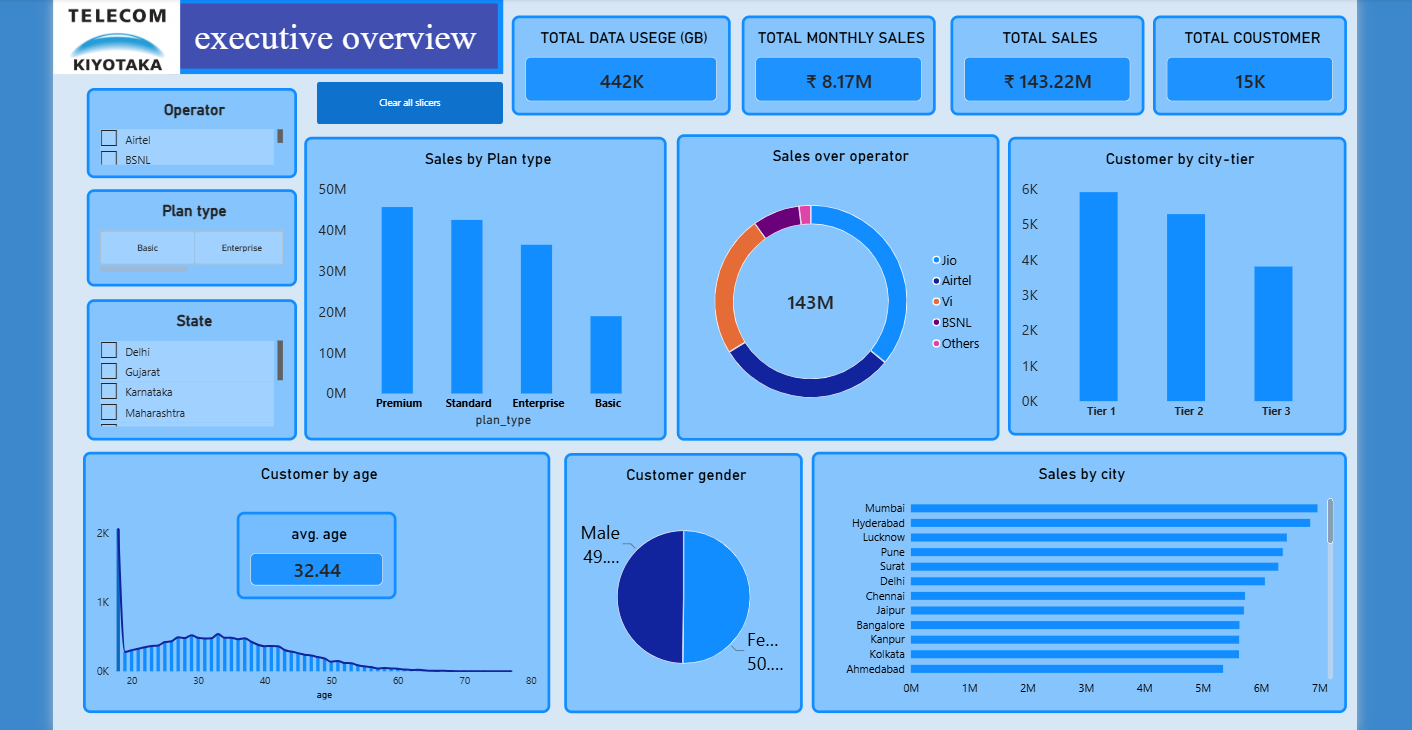

The dashboard page shown, as its layout file describes it:
{"tool":"powerbi","page":{"name":"executive overview","canvas":[1920,1080],"ordinal":0},"visuals":[{"type":"cardVisual","title":"TOTAL COUSTOMER","fields":{"Data":["CountNonNull(indian_telecom_customers1.customer_id)"]},"box":[1619.6,25.8,285.3,147.2],"z":0},{"type":"pieChart","title":"Customer gender","fields":{"Category":["indian_telecom_customers1.gender"],"Y":["CountNonNull(indian_telecom_customers1.customer_id)"]},"box":[752.8,669.9,384.7,382.8],"z":1000},{"type":"cardVisual","title":"TOTAL MONTHLY SALES","fields":{"Data":["Sum(customers_info.monthly_charges)"]},"box":[1014.1,25.8,285.3,147.2],"z":2000},{"type":"cardVisual","title":"TOTAL DATA USEGE (GB)","fields":{"Data":["Sum(customer_review.data_usage_gb)"]},"box":[675.5,25.8,322.1,147.2],"z":3000},{"type":"textbox","box":[169.3,0,493.3,112.3],"z":4000},{"type":"clusteredColumnChart","title":" Customer by city-tier","fields":{"Category":["customers_info.city_tier"],"Y":["CountNonNull(customers_info.customer_id)"]},"box":[1406.1,200.6,498.8,450.9],"z":5000},{"type":"barChart","title":"Sales by city","fields":{"Category":["customers_info.city"],"Y":["Sum(customers_info.total_charges)"]},"box":[1155.8,668.1,749.1,384.7],"z":6000},{"type":"clusteredColumnChart","title":"Sales by Plan type","fields":{"Category":["customers_info.plan_type"],"Y":["Sum(customers_info.total_charges)"]},"box":[369.9,204.3,533.7,447.2],"z":7000},{"type":"listSlicer","title":"State","fields":{"Values":["indian_telecom_customers1.state"]},"box":[49.7,463.8,309.2,187.7],"z":8000},{"type":"lineStackedColumnComboChart","title":"Age by Customer","fields":{"Category":["customers_info.age"],"Y":["CountNonNull(customers_info.customer_id)"],"Y2":["CountNonNull(customers_info.gender)"]},"box":[44.2,668.1,688.3,384.7],"z":9000},{"type":"donutChart","title":"Sales over operator","fields":{"Category":["customers_info.operator"],"Y":["Sum(customers_info.total_charges)"]},"box":[918.4,200.6,474.8,450.9],"z":10000},{"type":"cardVisual","title":"avg. age","fields":{"Data":["Avg(customers_info.age)"]},"box":[270.6,756.4,235.6,128.8],"z":11000},{"type":"image","box":[0,0,187.7,112.3],"z":12000},{"type":"cardVisual","title":"TOTAL SALES","fields":{"Data":["Sum(indian_telecom_customers1.total_charges)"]},"box":[1321.5,25.8,285.3,147.2],"z":13000},{"type":"listSlicer","title":"Plan type","fields":{"Values":["customers_info.plan_type"]},"box":[49.7,305.5,309.2,143.6],"z":14000},{"type":"listSlicer","title":"Operator","fields":{"Values":["customers_info.operator"]},"box":[49.7,132.5,309.2,160.1],"z":15000},{"type":"actionButton","box":[388.3,123.3,274.2,62.6],"z":15001}]}

Visuals, with their boxes on the page's 1920x1080 design canvas (x1, y1, x2, y2). These are canvas units, not pixel positions in the 1412x730 screenshot, which may show the page scaled, cropped or inside an application window:
"TOTAL COUSTOMER" cardVisual: x1=1620, y1=26, x2=1905, y2=173
"Customer gender" pieChart: x1=753, y1=670, x2=1138, y2=1053
"TOTAL MONTHLY SALES" cardVisual: x1=1014, y1=26, x2=1299, y2=173
"TOTAL DATA USEGE (GB)" cardVisual: x1=676, y1=26, x2=998, y2=173
textbox: x1=169, y1=0, x2=663, y2=112
" Customer by city-tier" clusteredColumnChart: x1=1406, y1=201, x2=1905, y2=652
"Sales by city" barChart: x1=1156, y1=668, x2=1905, y2=1053
"Sales by Plan type" clusteredColumnChart: x1=370, y1=204, x2=904, y2=652
"State" listSlicer: x1=50, y1=464, x2=359, y2=652
"Age by Customer" lineStackedColumnComboChart: x1=44, y1=668, x2=732, y2=1053
"Sales over operator" donutChart: x1=918, y1=201, x2=1393, y2=652
"avg. age" cardVisual: x1=271, y1=756, x2=506, y2=885
image: x1=0, y1=0, x2=188, y2=112
"TOTAL SALES" cardVisual: x1=1322, y1=26, x2=1607, y2=173
"Plan type" listSlicer: x1=50, y1=306, x2=359, y2=449
"Operator" listSlicer: x1=50, y1=132, x2=359, y2=293
actionButton: x1=388, y1=123, x2=662, y2=186
